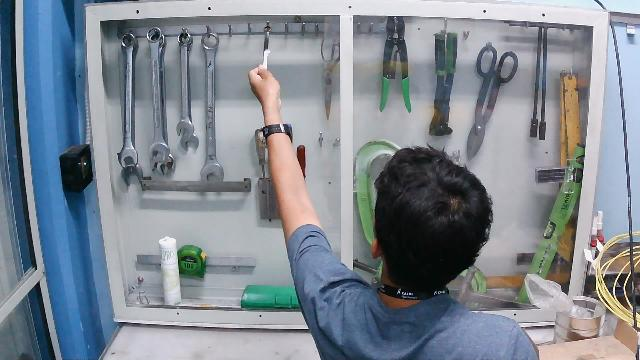kunci_pass_13: (240, 19, 294, 109)
